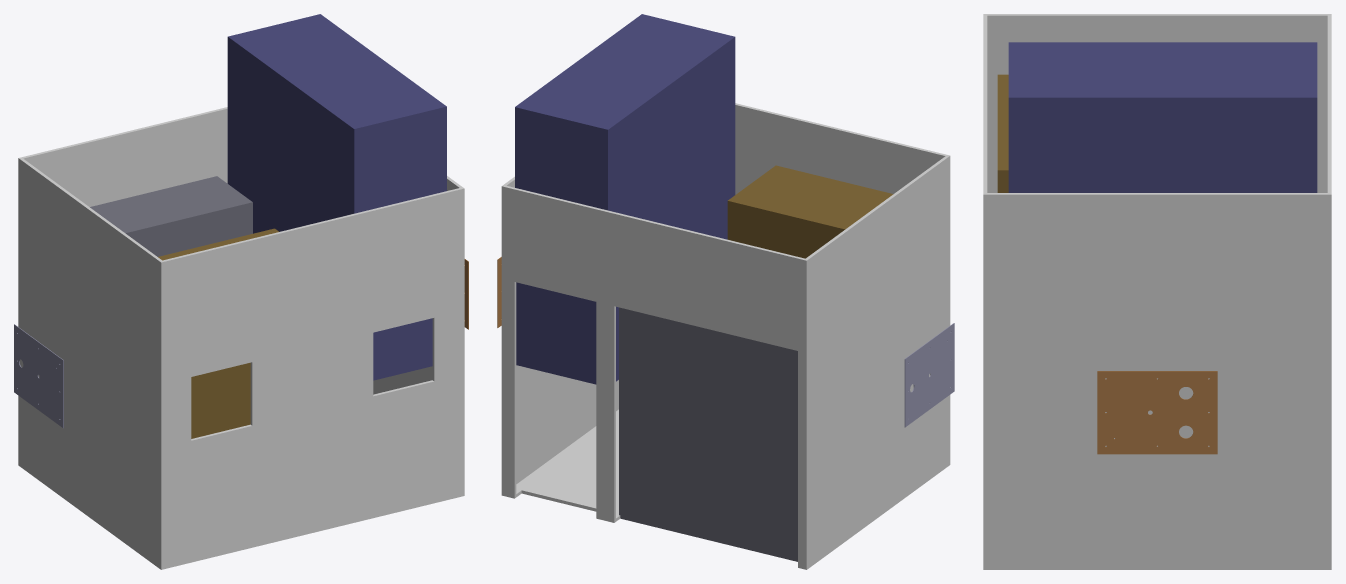
Rendered from assembly-exploded.glb.
3 renders of one model, left to right at view 1: azimuth 30°, elevation 25°; view 2: azimuth 150°, elevation 25°; view 3: azimuth 270°, elevation 25°, orthographic. The views are drawn at different scales.
Visible parts, largest first — view 1: container_shell, GRD-SWG-001, GRD-LVS-001, GRD-XFM-001, ARC-PLT-CG; view 2: container_shell, GRD-SWG-001, GRD-LVS-001, GRD-XFM-001, ARC-PLT-CG; view 3: container_shell, GRD-SWG-001, ARC-PLT-BG-AC, GRD-XFM-001.
Boxes of the visible parts, x1=… form: container_shell: x1=18, y1=107, x2=464, y2=569; GRD-SWG-001: x1=227, y1=14, x2=446, y2=380; GRD-LVS-001: x1=90, y1=176, x2=252, y2=256; GRD-XFM-001: x1=158, y1=228, x2=278, y2=438; ARC-PLT-CG: x1=14, y1=324, x2=63, y2=428; container_shell: x1=501, y1=103, x2=950, y2=569; GRD-SWG-001: x1=515, y1=14, x2=735, y2=384; GRD-LVS-001: x1=619, y1=307, x2=797, y2=561; GRD-XFM-001: x1=727, y1=165, x2=893, y2=258; ARC-PLT-CG: x1=904, y1=323, x2=954, y2=427; container_shell: x1=983, y1=14, x2=1331, y2=569; GRD-SWG-001: x1=1008, y1=42, x2=1317, y2=192; ARC-PLT-BG-AC: x1=1097, y1=371, x2=1217, y2=454; GRD-XFM-001: x1=997, y1=74, x2=1008, y2=192.
Size of the model in its own units: 3997 by 3613 by 2438.
